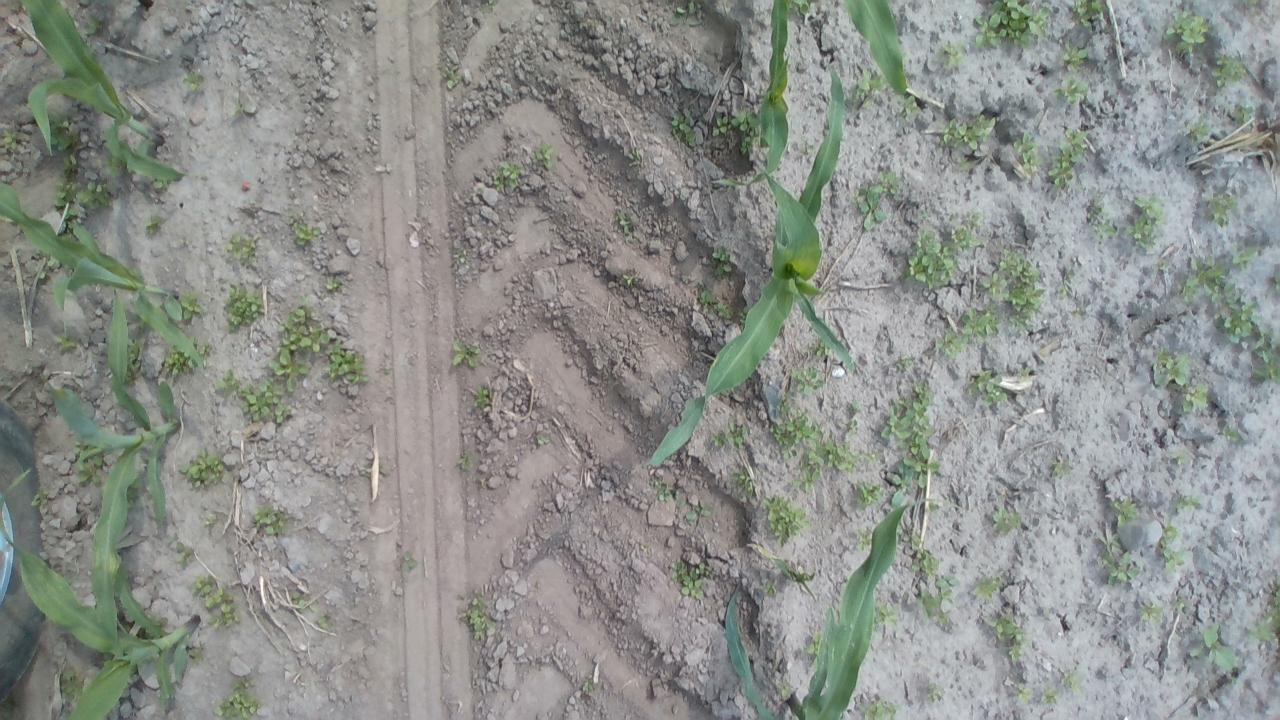Maize: (644, 63, 860, 478), (722, 500, 964, 720), (0, 468, 202, 720), (48, 286, 183, 656), (0, 181, 208, 377), (9, 0, 185, 184), (736, 0, 795, 195), (840, 0, 916, 100)
Weeds: (883, 380, 941, 494), (982, 248, 1052, 334), (270, 302, 332, 395), (794, 430, 883, 491), (1202, 276, 1260, 340), (974, 0, 1050, 48), (934, 305, 999, 357), (939, 113, 995, 171), (904, 230, 958, 289), (768, 398, 818, 458), (914, 560, 956, 631), (50, 156, 112, 204), (853, 169, 900, 231), (1162, 10, 1210, 69), (758, 549, 814, 599), (191, 577, 239, 630), (990, 610, 1034, 666), (1048, 127, 1088, 188), (711, 108, 764, 153), (765, 495, 812, 545), (1098, 532, 1142, 584), (1189, 622, 1236, 668), (242, 380, 292, 423), (1178, 258, 1224, 304), (1126, 193, 1163, 250), (222, 282, 264, 332), (326, 340, 368, 386), (697, 292, 752, 327), (214, 679, 260, 720), (458, 594, 498, 641), (1250, 588, 1280, 647), (181, 450, 226, 487), (672, 559, 713, 599), (1252, 327, 1280, 385), (1154, 348, 1192, 388), (968, 368, 1008, 404), (909, 536, 940, 582), (1012, 130, 1042, 172), (286, 213, 322, 248), (1012, 684, 1060, 710), (1088, 194, 1114, 242), (1212, 54, 1248, 88), (488, 161, 524, 195), (1160, 526, 1186, 572), (1202, 192, 1236, 227), (251, 506, 288, 537), (951, 213, 982, 249), (708, 424, 748, 451), (1053, 76, 1089, 105), (183, 66, 213, 100), (47, 115, 75, 151), (788, 366, 823, 394), (613, 201, 637, 241), (225, 232, 257, 262), (168, 532, 196, 566), (138, 214, 174, 240), (670, 112, 696, 148), (1071, 0, 1107, 26), (1216, 417, 1246, 448), (990, 507, 1022, 536), (124, 337, 144, 383), (174, 291, 205, 320), (854, 481, 886, 509), (74, 452, 101, 485), (860, 699, 900, 720), (82, 9, 109, 38), (1112, 498, 1139, 527), (671, 1, 702, 26), (972, 574, 1004, 598), (1184, 120, 1216, 144), (1182, 384, 1210, 411), (1060, 668, 1086, 697), (1061, 44, 1089, 70), (710, 246, 735, 275), (326, 272, 352, 299), (452, 342, 478, 368), (858, 68, 882, 96), (56, 666, 79, 695), (732, 468, 754, 498), (1057, 269, 1078, 300), (940, 40, 965, 66), (163, 350, 190, 374), (216, 369, 238, 397), (874, 599, 898, 624), (625, 146, 648, 172), (650, 476, 673, 502), (1232, 246, 1258, 268), (686, 502, 712, 524), (1173, 494, 1203, 513), (900, 96, 924, 118), (532, 144, 554, 168), (452, 248, 478, 268), (54, 329, 77, 351), (1012, 363, 1038, 382), (1, 125, 20, 151), (848, 403, 866, 430), (1140, 600, 1162, 622), (1232, 103, 1254, 124), (441, 66, 460, 90), (29, 490, 51, 509), (401, 550, 419, 572), (290, 589, 306, 612), (897, 353, 916, 372), (855, 529, 873, 549), (776, 680, 794, 700), (200, 342, 217, 363), (809, 340, 828, 358), (474, 386, 490, 407), (456, 452, 474, 470), (1156, 258, 1175, 274), (1050, 457, 1066, 476), (313, 613, 332, 629), (806, 636, 821, 656), (582, 680, 599, 696), (925, 684, 940, 702), (918, 208, 934, 223), (535, 432, 550, 446), (1242, 0, 1265, 8), (1173, 454, 1189, 465), (624, 272, 636, 286), (1172, 602, 1188, 612), (1274, 273, 1280, 291)
